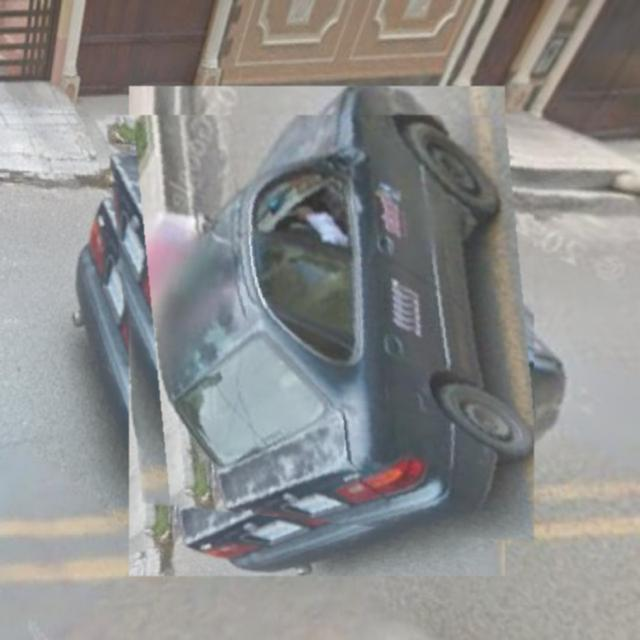car: (102, 116, 535, 549)
